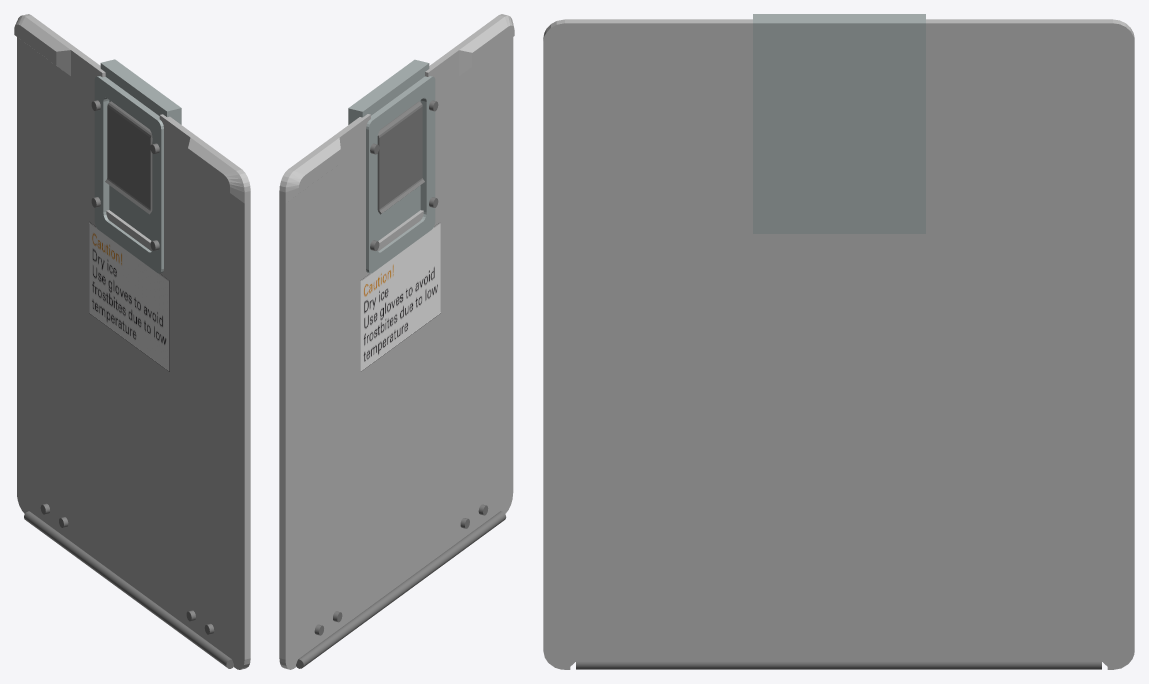
File: RKN_t2_DryiceDoor.fbx
3 renders of one model, left to right at view 1: azimuth 30°, elevation 25°; view 2: azimuth 150°, elevation 25°; view 3: azimuth 270°, elevation 25°, orthographic. The views are drawn at different scales.
Visible parts, largest first — view 1: doorBase, lock; view 2: doorBase, lock; view 3: doorBase.
Part boxes in pixels (x1,y1,x2,y2): doorBase: (14, 14, 250, 669); lock: (105, 101, 152, 214); doorBase: (279, 14, 514, 669); lock: (377, 101, 424, 214); doorBase: (543, 14, 1134, 669).
Size of the model in its own units: 2.12 by 39.84 by 32.47.
